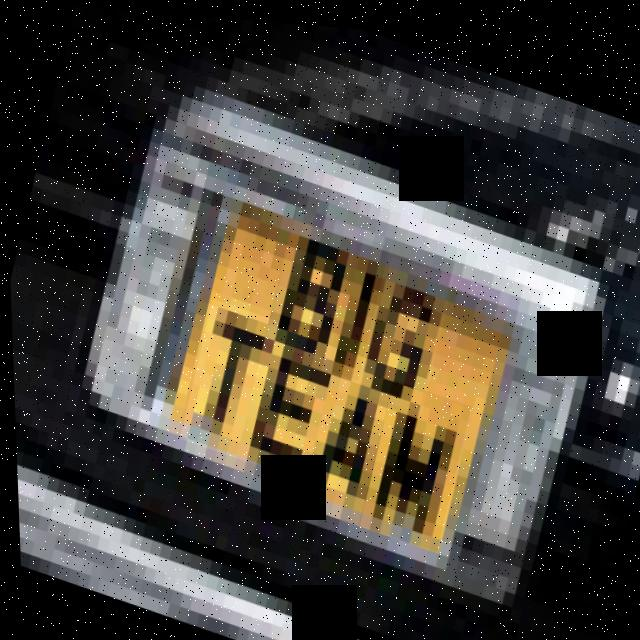A: (296, 345, 393, 509)
B: (259, 202, 361, 361), (325, 229, 392, 377)
E: (237, 320, 338, 479)
G: (352, 248, 456, 409)
M: (350, 370, 472, 547)
T: (172, 292, 280, 460)
